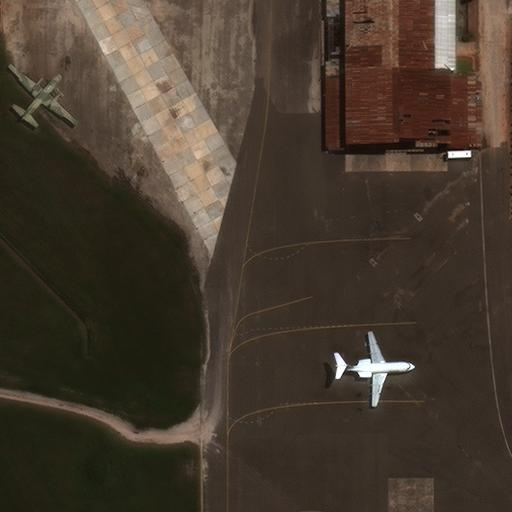Medium Civil Transport: (335, 331, 415, 407)
Military Transport: (11, 64, 78, 122)
